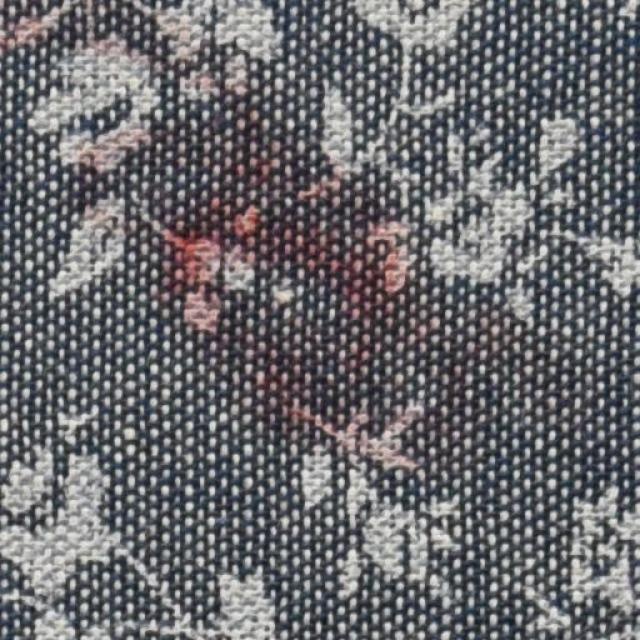Stain: (166, 143, 428, 443)
